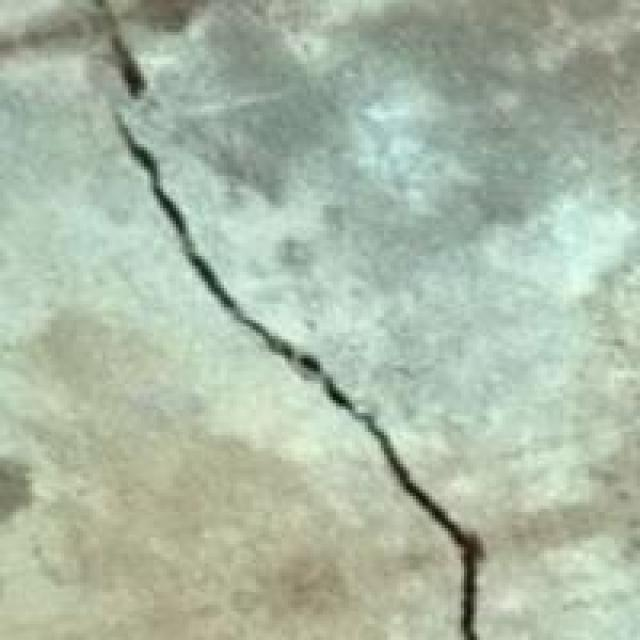Crack: (48, 0, 528, 637)
